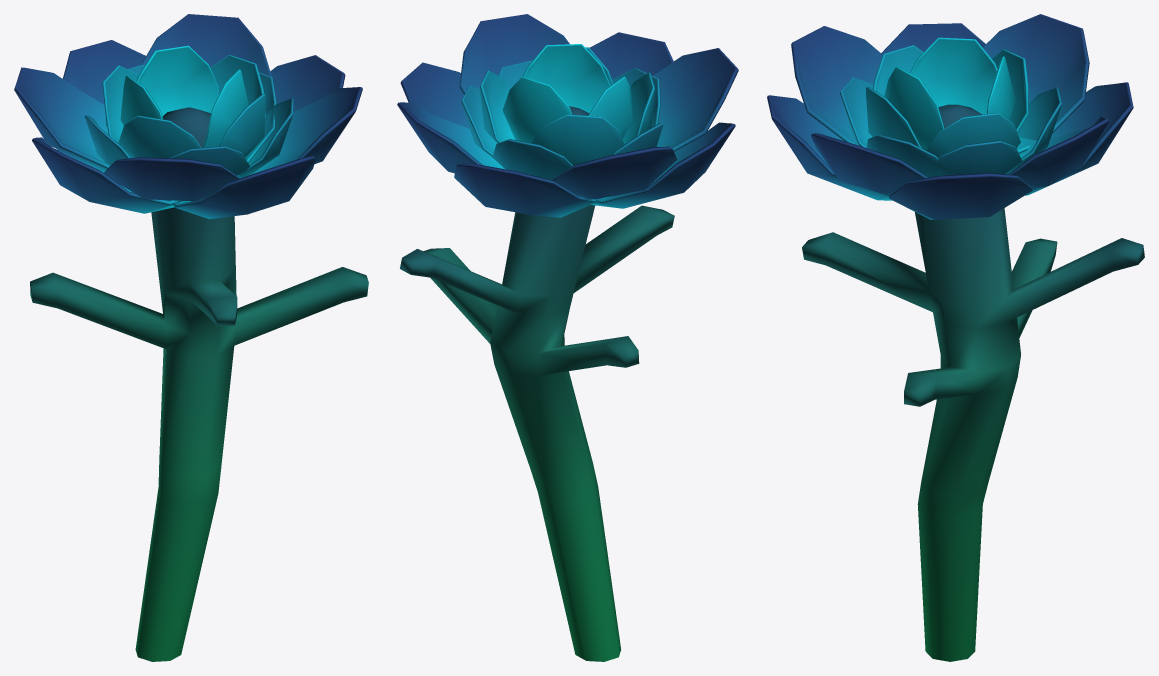
File: BD_BlueFlower.fbx
3 renders of one model, left to right at view 1: azimuth 30°, elevation 25°; view 2: azimuth 150°, elevation 25°; view 3: azimuth 270°, elevation 25°, orthographic. The views are drawn at different scales.
Parts seen in each view (by area): view 1: pCylinder4; view 2: pCylinder4; view 3: pCylinder4.
Part boxes in pixels (x1=…): pCylinder4: x1=14, y1=14, x2=368, y2=661; pCylinder4: x1=397, y1=14, x2=738, y2=661; pCylinder4: x1=767, y1=14, x2=1144, y2=661.
Bounding box in the file's own units: 1.21 × 2.12 × 1.2.
